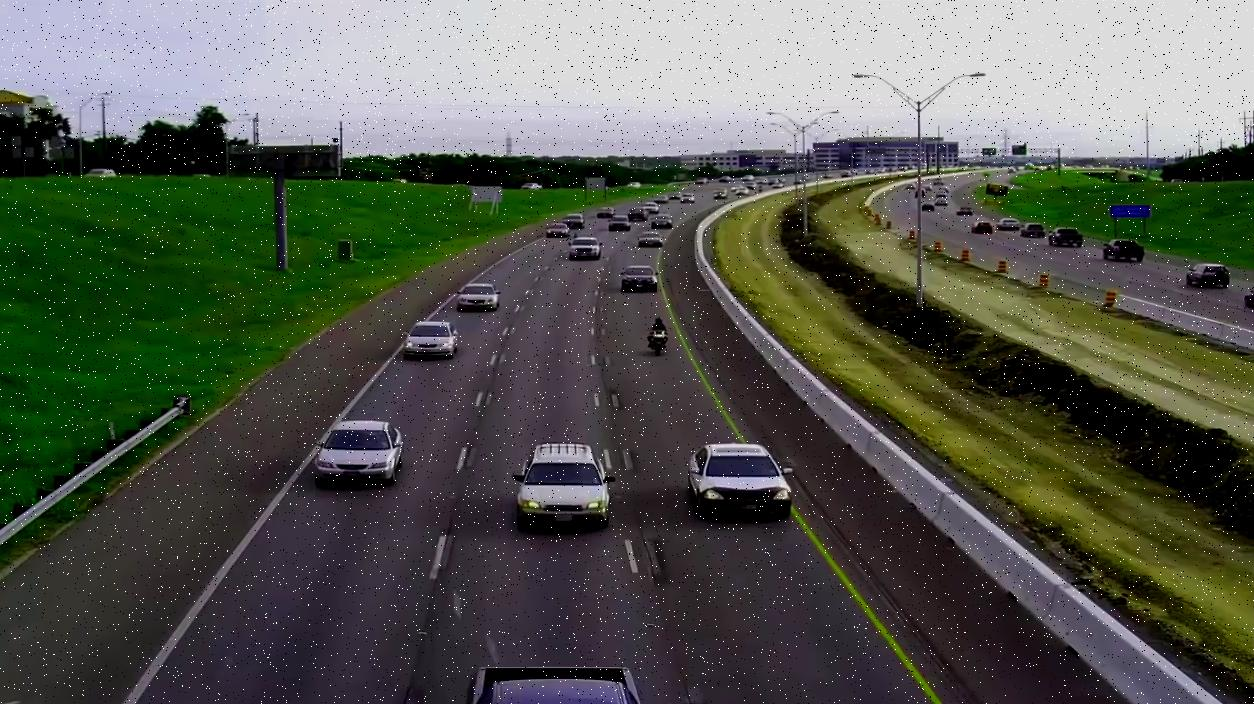bike: (647, 313, 672, 360)
car: (682, 439, 796, 521), (513, 443, 612, 529), (464, 665, 652, 704), (321, 419, 407, 448), (406, 322, 459, 358), (451, 285, 499, 313), (1186, 264, 1231, 289), (621, 265, 660, 290), (1105, 241, 1146, 264), (568, 239, 603, 261), (1049, 227, 1082, 247), (1019, 223, 1044, 238), (649, 215, 673, 229), (638, 237, 666, 248), (1000, 219, 1022, 233), (976, 222, 998, 235), (546, 226, 571, 237), (607, 220, 627, 232)
